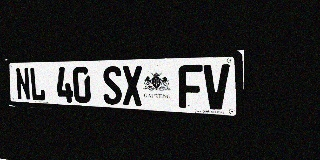0: (72, 66, 91, 104)
4: (56, 67, 74, 103)
F: (178, 65, 203, 109)
L: (29, 67, 46, 101)
N: (15, 68, 31, 101)
S: (102, 66, 122, 105)
V: (203, 64, 230, 110)
X: (122, 66, 143, 106)
